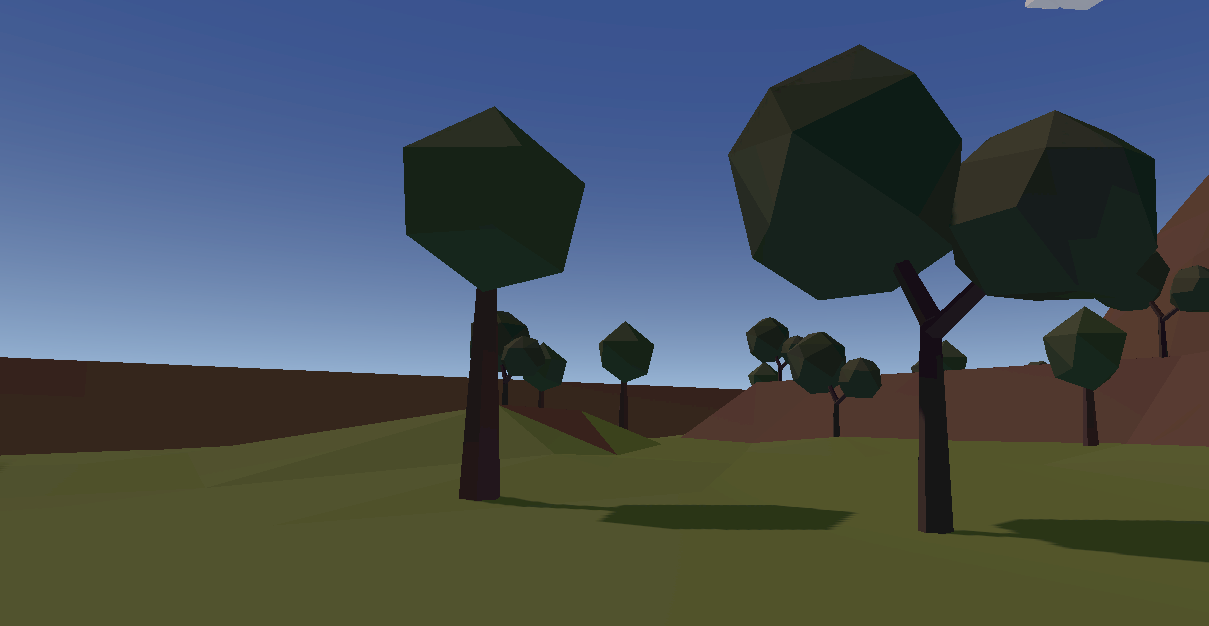tree: (727, 43, 1159, 530), (400, 104, 587, 507), (1042, 304, 1123, 446), (788, 330, 884, 439), (1130, 248, 1206, 361), (481, 309, 544, 420), (597, 316, 656, 430), (741, 315, 803, 391), (526, 341, 568, 415)
